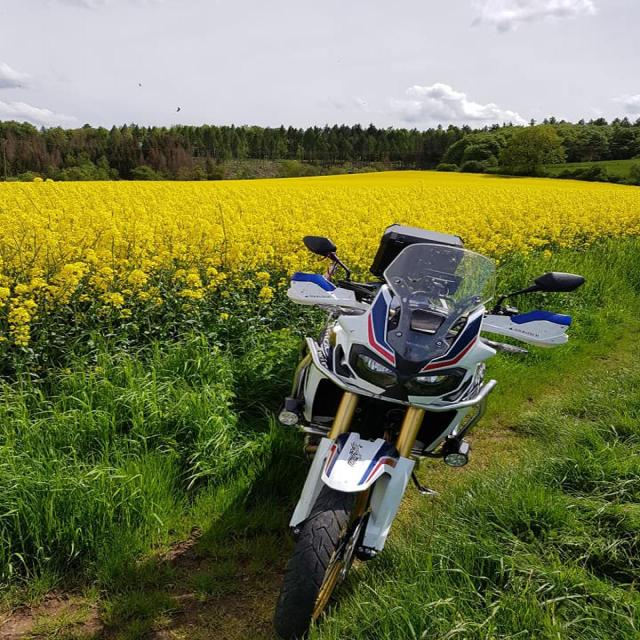Motorcycle: (275, 224, 572, 640)
